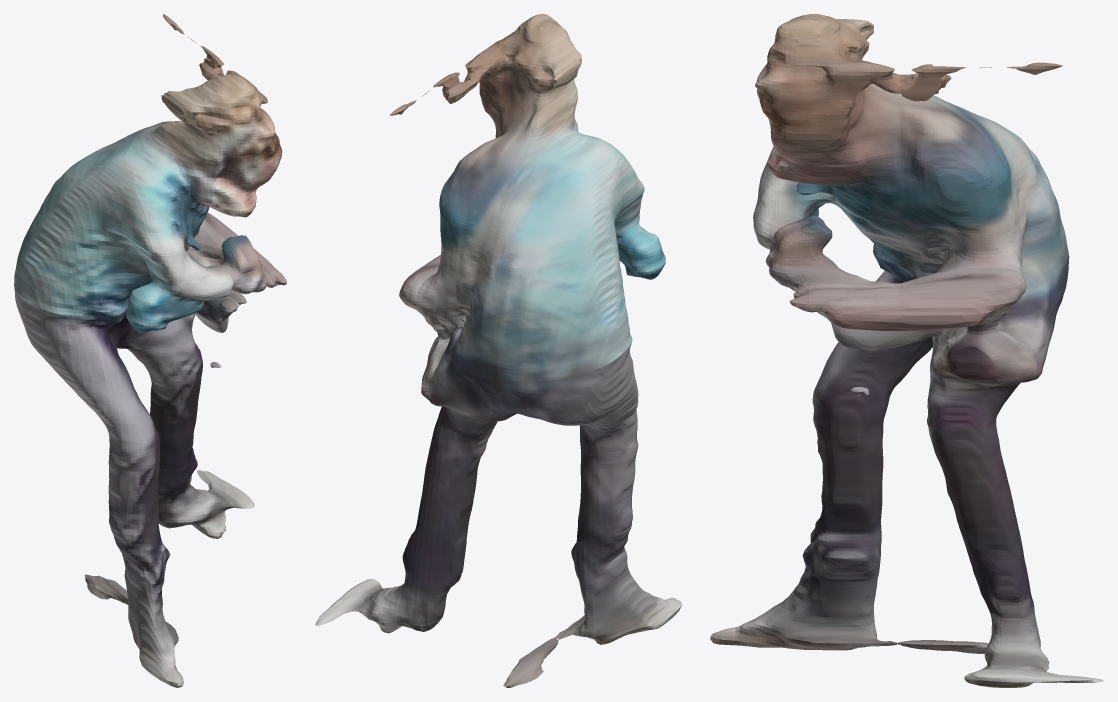
File: 0073_tex.glb
3 renders of one model, left to right at view 1: azimuth 30°, elevation 25°; view 2: azimuth 150°, elevation 25°; view 3: azimuth 270°, elevation 25°, orthographic. The views are drawn at different scales.
Parts seen in each view (by area): view 1: 0073_tex.obj; view 2: 0073_tex.obj; view 3: 0073_tex.obj.
Boxes of the visible parts, x1=… form: 0073_tex.obj: x1=14, y1=14, x2=286, y2=687; 0073_tex.obj: x1=315, y1=14, x2=681, y2=687; 0073_tex.obj: x1=710, y1=14, x2=1103, y2=687.
Size of the model in its own units: 0.3824 by 0.8718 by 0.4556.
